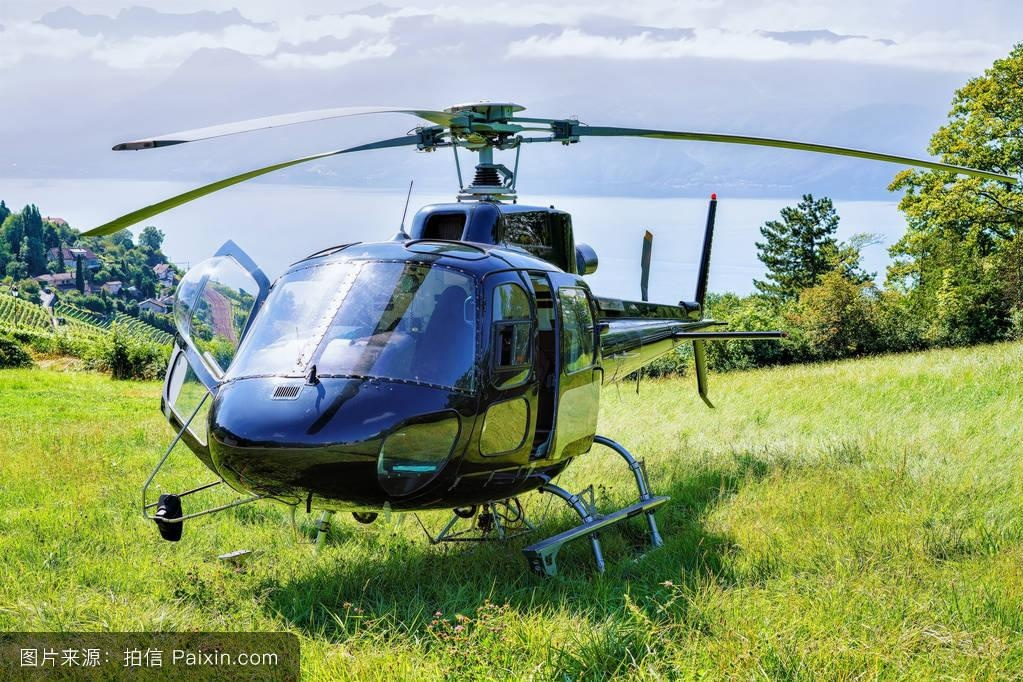airplane: (78, 93, 954, 579)
